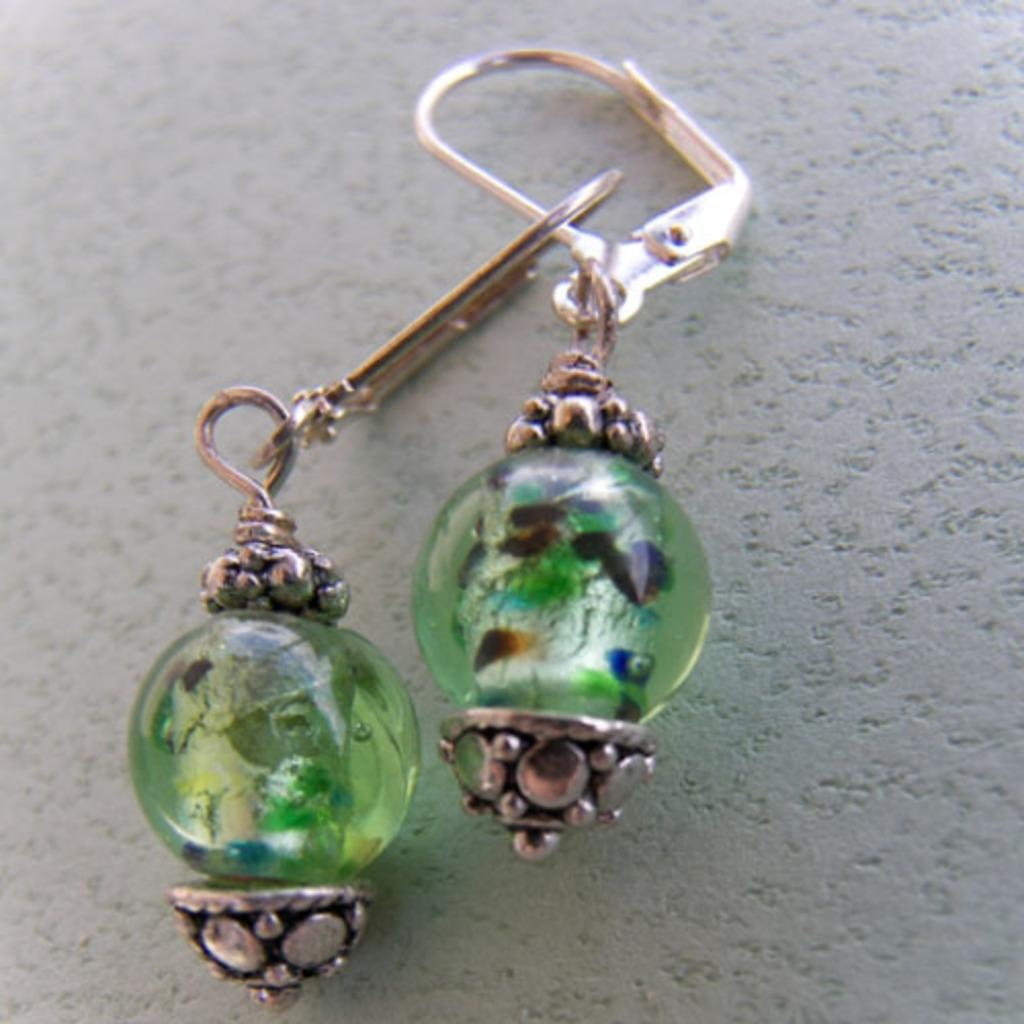earring: (117, 162, 623, 1004), (408, 46, 752, 865)
